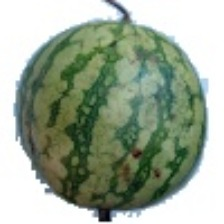watermelon: (4, 32, 199, 171)
